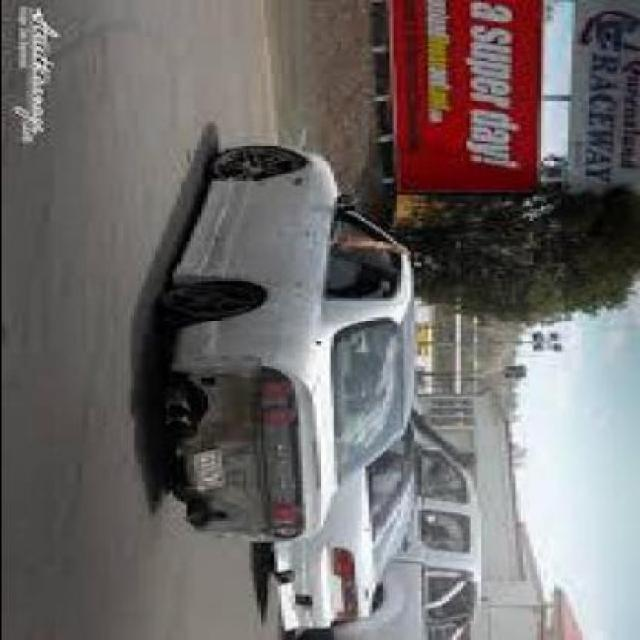damage: (169, 360, 276, 543)
